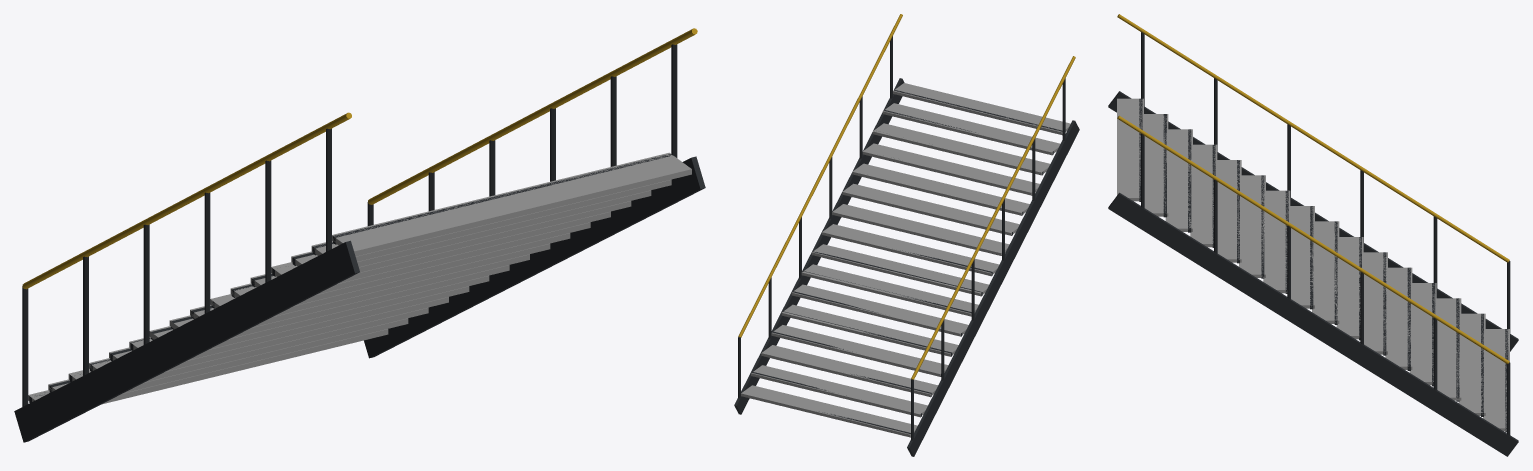
The model's file is Stairs_Metal_3m.fbx.
The picture shows the model from 3 angles, left to right: view 1: azimuth 30°, elevation 25°; view 2: azimuth 150°, elevation 25°; view 3: azimuth 270°, elevation 25°; orthographic projection. The views are drawn at different scales.
Parts seen in each view (by area): view 1: Stairs_Metal_3m_LOD0; view 2: Stairs_Metal_3m_LOD0; view 3: Stairs_Metal_3m_LOD0.
Part boxes in pixels (box(x1,y1,x2,y2)): Stairs_Metal_3m_LOD0: box(14, 28, 705, 442); Stairs_Metal_3m_LOD0: box(734, 14, 1079, 456); Stairs_Metal_3m_LOD0: box(1108, 14, 1518, 456).
Size of what is drawn, in the model's own units: 2.7 by 4.16 by 4.54.
